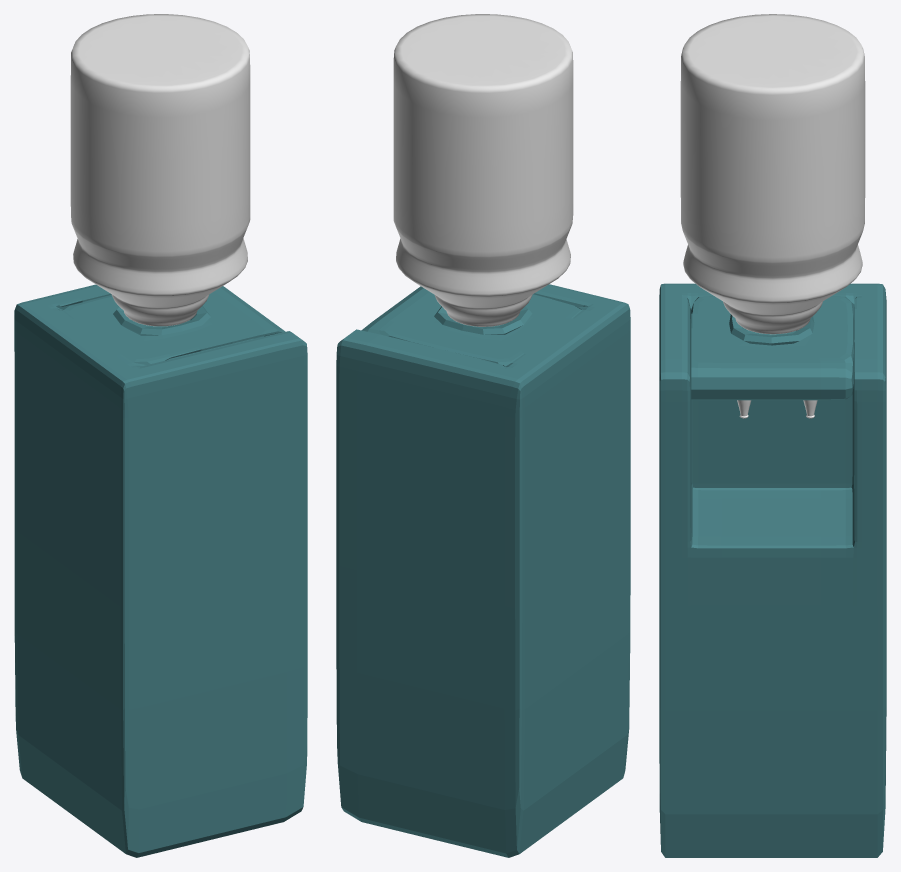
File: Water_Dispenser.fbx
The picture shows the model from 3 angles, left to right: view 1: azimuth 30°, elevation 25°; view 2: azimuth 150°, elevation 25°; view 3: azimuth 270°, elevation 25°; orthographic projection. The views are drawn at different scales.
Parts seen in each view (by area): view 1: Cylinder.002; view 2: Cylinder.002; view 3: Cylinder.002.
Part boxes in pixels (x1,y1,x2,y2): Cylinder.002: (14, 14, 307, 857); Cylinder.002: (336, 14, 630, 857); Cylinder.002: (659, 14, 886, 857).
Bounding box in the file's own units: 103 × 398 × 107.
